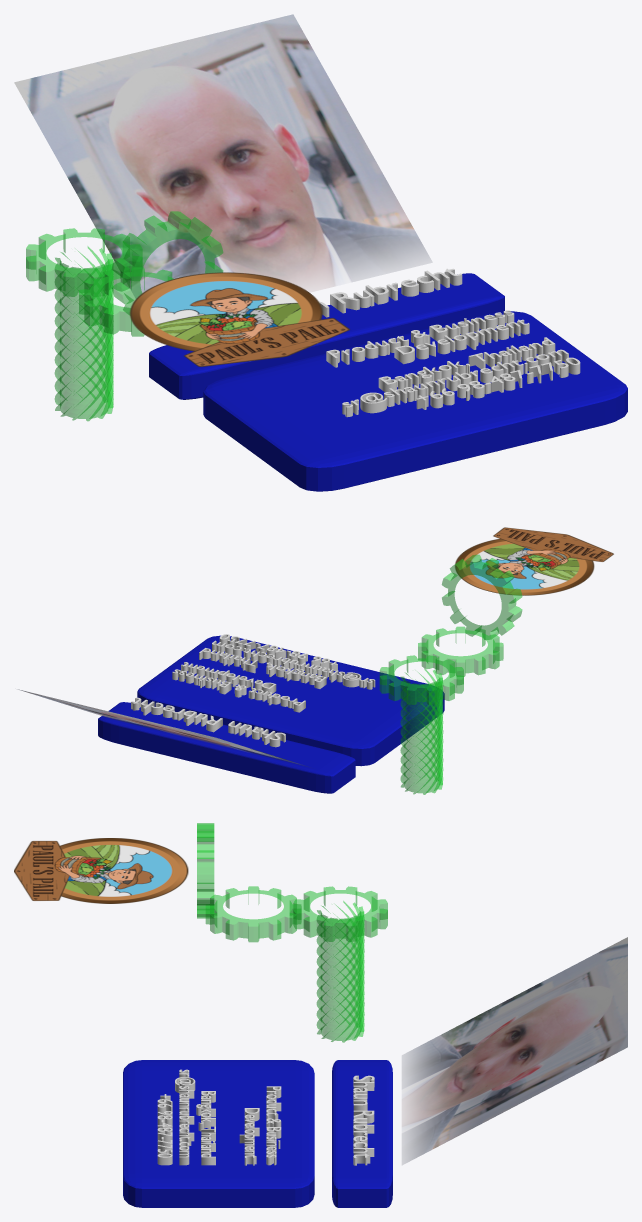
File: ShaunGears5.gltf
3 views of the same model, one above another, from view 1: azimuth 30°, elevation 25°; view 2: azimuth 150°, elevation 25°; view 3: azimuth 270°, elevation 25° (orthographic). The views are drawn at different scales.
Parts seen in each view (by area): view 1: ShaunFace, Roundcube.001, PPlogo, text.001, Roundcube, Worm Gear, Gear.001, Gear, Gear.002, text.002; view 2: Roundcube.001, Roundcube, PPlogo, text.001, Worm Gear, Gear, Gear.002, Gear.001, text.002, ShaunFace; view 3: ShaunFace, Roundcube.001, PPlogo, Roundcube, Worm Gear, text.001, Gear.001, Gear.002, Gear, text.002.
Boxes of the visible parts, x1=… form: ShaunFace: x1=14, y1=14, x2=431, y2=298; Roundcube.001: x1=203, y1=311, x2=627, y2=491; PPlogo: x1=130, y1=272, x2=349, y2=366; text.001: x1=326, y1=310, x2=580, y2=417; Roundcube: x1=149, y1=273, x2=504, y2=399; Worm Gear: x1=54, y1=246, x2=113, y2=421; Gear.001: x1=26, y1=228, x2=142, y2=296; Gear: x1=111, y1=211, x2=223, y2=315; Gear.002: x1=79, y1=267, x2=173, y2=336; text.002: x1=319, y1=268, x2=462, y2=317; Roundcube.001: x1=137, y1=635, x2=444, y2=766; Roundcube: x1=98, y1=702, x2=355, y2=793; PPlogo: x1=455, y1=527, x2=613, y2=595; text.001: x1=172, y1=634, x2=375, y2=712; Worm Gear: x1=400, y1=668, x2=443, y2=794; Gear: x1=442, y1=554, x2=522, y2=639; Gear.002: x1=418, y1=626, x2=503, y2=676; Gear.001: x1=379, y1=655, x2=463, y2=704; text.002: x1=131, y1=697, x2=285, y2=747; ShaunFace: x1=17, y1=689, x2=307, y2=766; ShaunFace: x1=402, y1=937, x2=627, y2=1164; Roundcube.001: x1=123, y1=1060, x2=314, y2=1207; PPlogo: x1=14, y1=838, x2=188, y2=903; Roundcube: x1=332, y1=1060, x2=392, y2=1207; Worm Gear: x1=316, y1=901, x2=364, y2=1042; text.001: x1=157, y1=1069, x2=281, y2=1165; Gear.001: x1=293, y1=886, x2=387, y2=941; Gear.002: x1=205, y1=886, x2=301, y2=942; Gear: x1=197, y1=823, x2=214, y2=918; text.002: x1=353, y1=1075, x2=374, y2=1165.
Size of the model in its own units: 10.79 by 5.49 by 14.1.
Materials: 5 (2 with a texture image).
